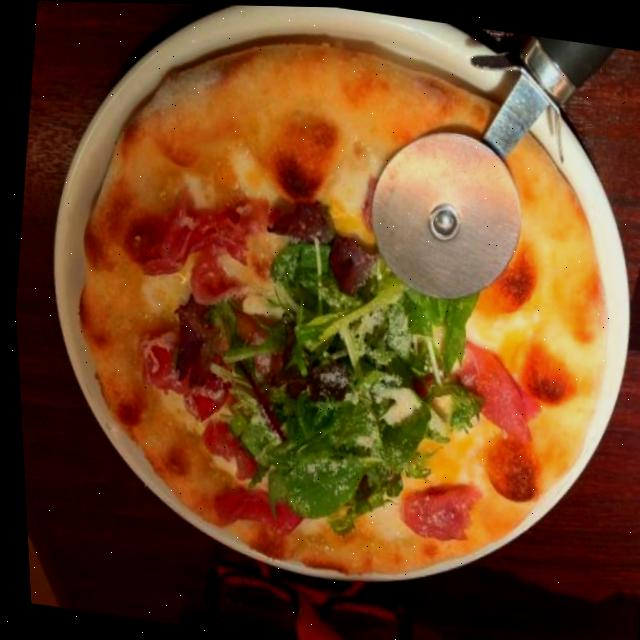汉堡快餐: (38, 3, 640, 622)
